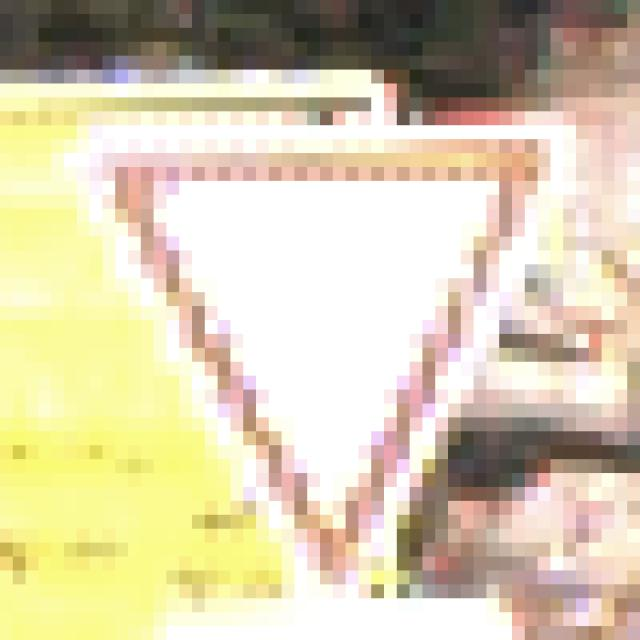Give Way: (78, 85, 577, 572)
